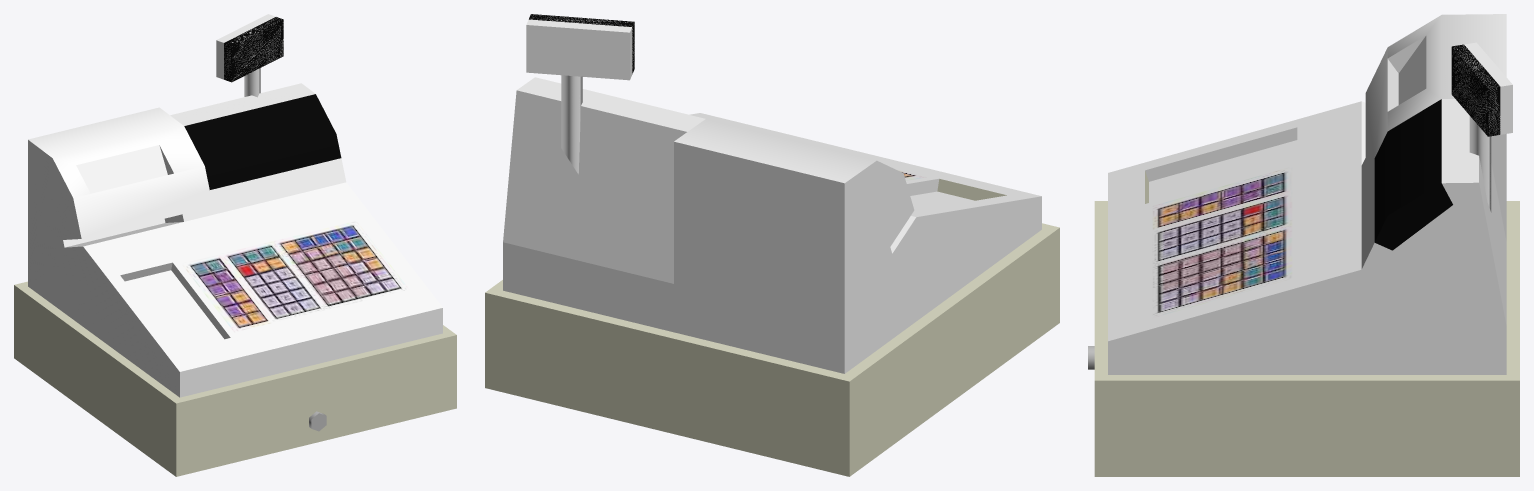
The model's file is Cash_Register.dae.
3 views of the same model, side by side, from view 1: azimuth 30°, elevation 25°; view 2: azimuth 150°, elevation 25°; view 3: azimuth 270°, elevation 25° (orthographic). The views are drawn at different scales.
Parts seen in each view (by area): view 1: SketchUp (×6), group_0 (×2); view 2: SketchUp (×4), group_0 (×3); view 3: SketchUp (×5), group_0 (×3).
Boxes of the visible parts, bbox=[...] form: SketchUp (×6): bbox=[14, 83, 456, 476]; group_0 (×2): bbox=[216, 14, 283, 82]; SketchUp (×4): bbox=[485, 77, 1059, 476]; group_0 (×3): bbox=[526, 14, 634, 174]; SketchUp (×5): bbox=[1094, 14, 1519, 476]; group_0 (×3): bbox=[1451, 42, 1512, 212].
Size of the model in its own units: 16 by 16.25 by 15.51.
5 materials, 1 textured.
